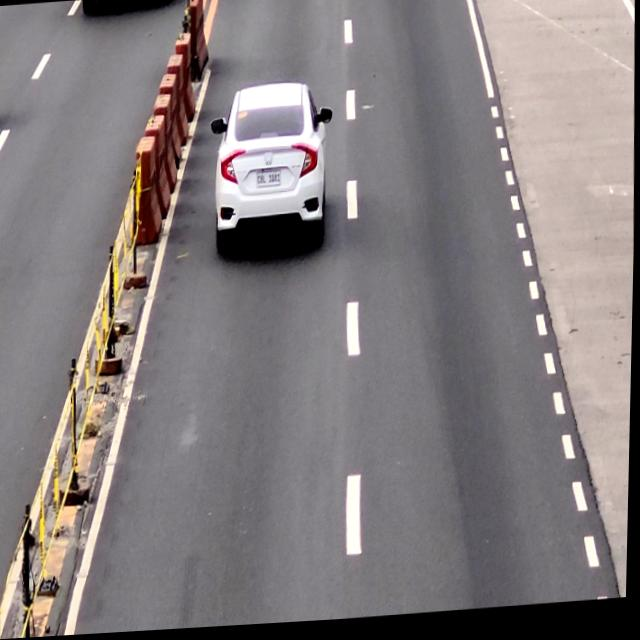Car: (207, 81, 336, 258)
License-Plate: (257, 173, 281, 189)
